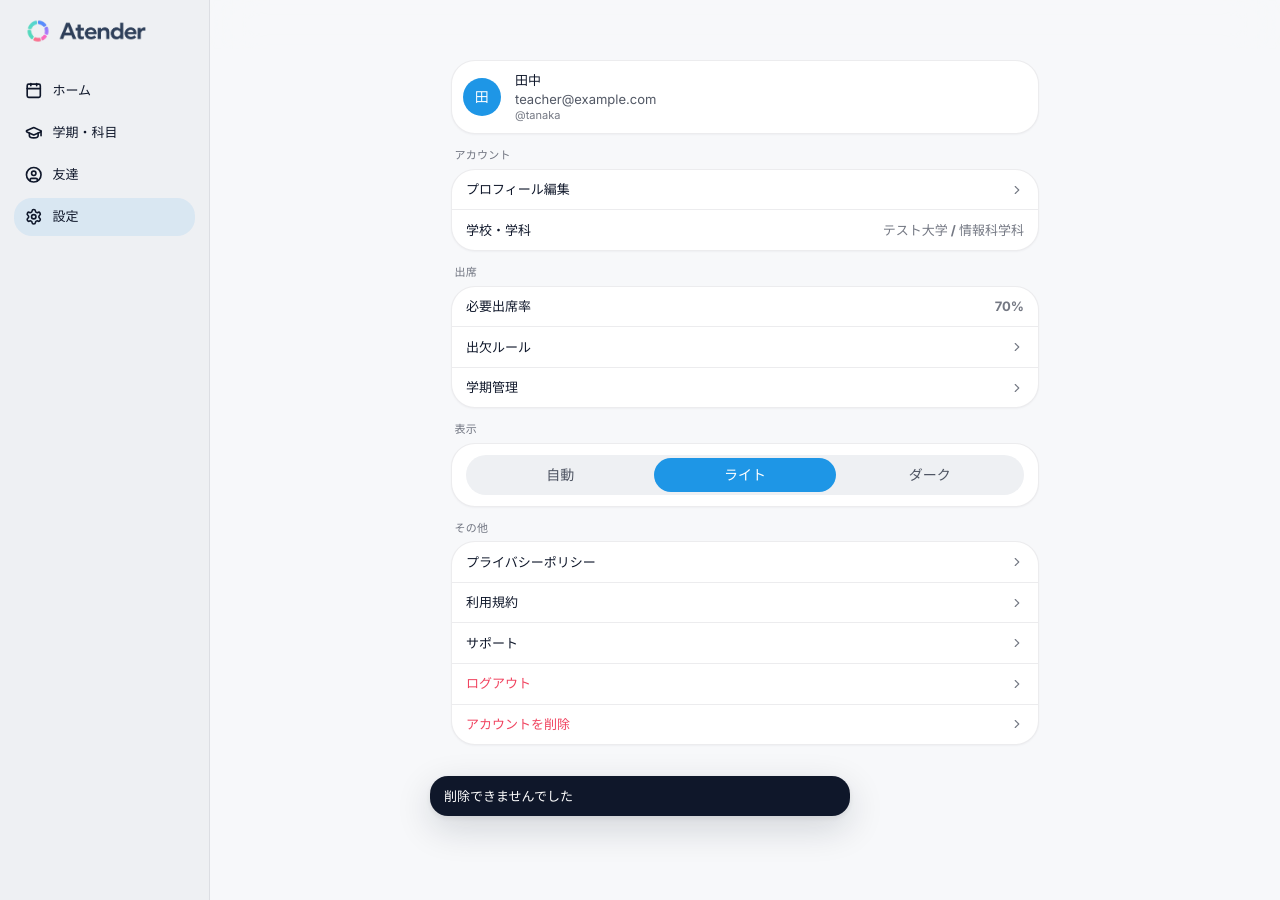
[SM] semester list sheet › [SM21a] import button enabled with 4 values
The image size is (1280, 900).
Click the button "学期管理": (492, 387) 452,368 -> 1038,407
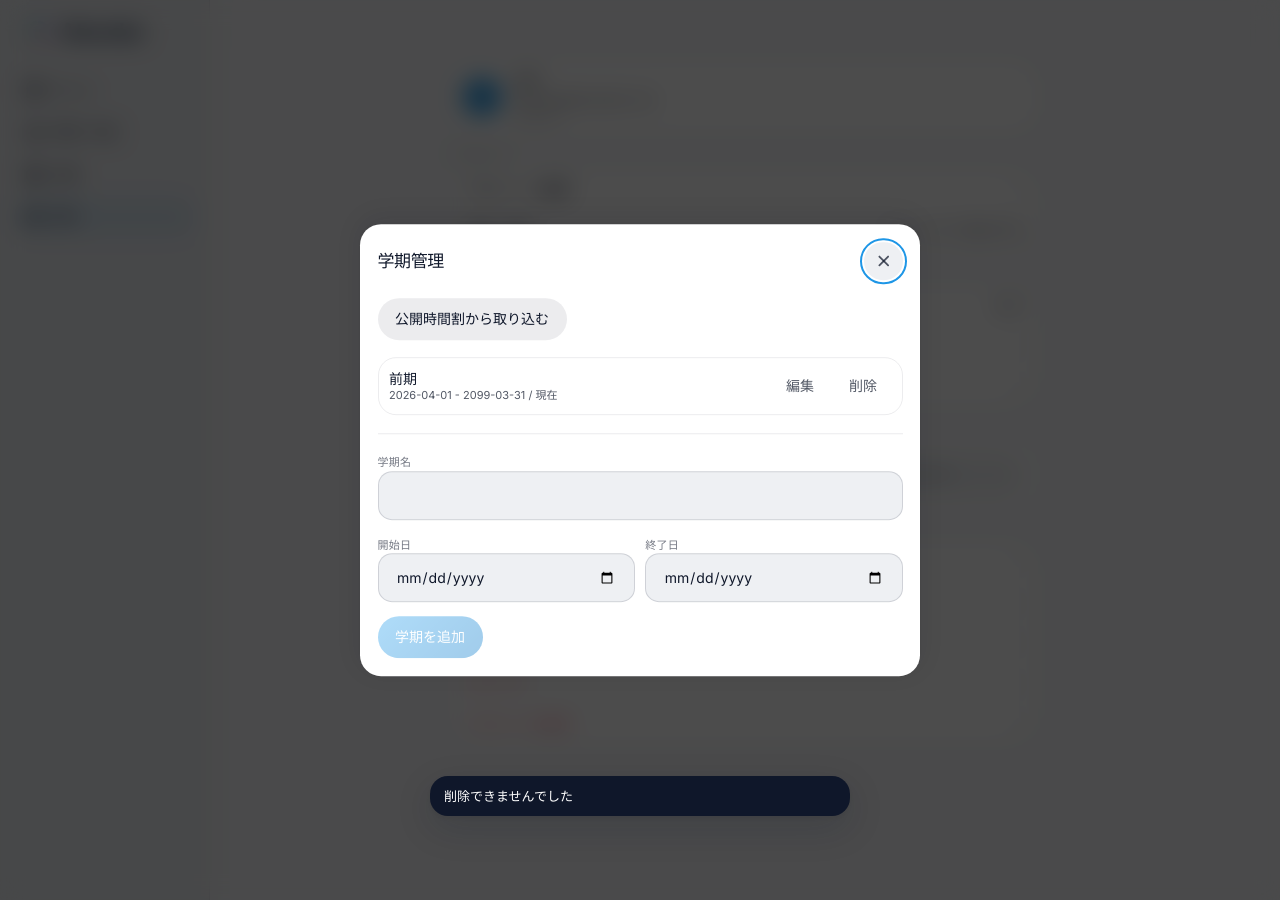
Now the button with test id "semester-list-import-template" is enabled, box 378,298 -> 566,340
